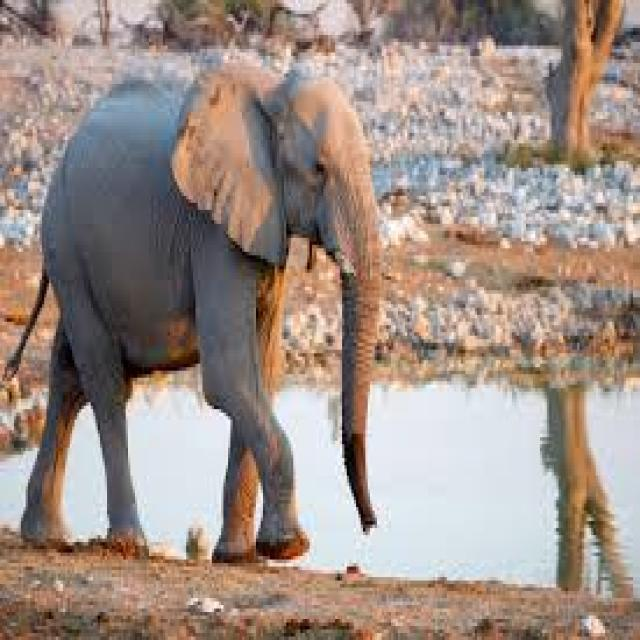Elephant: (2, 53, 382, 563)
